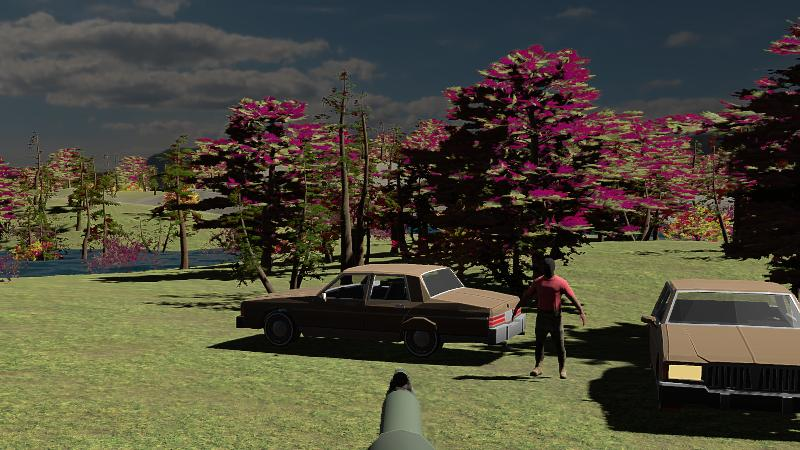Human: (520, 257, 584, 380)
car: (236, 263, 525, 358), (640, 278, 799, 419)
